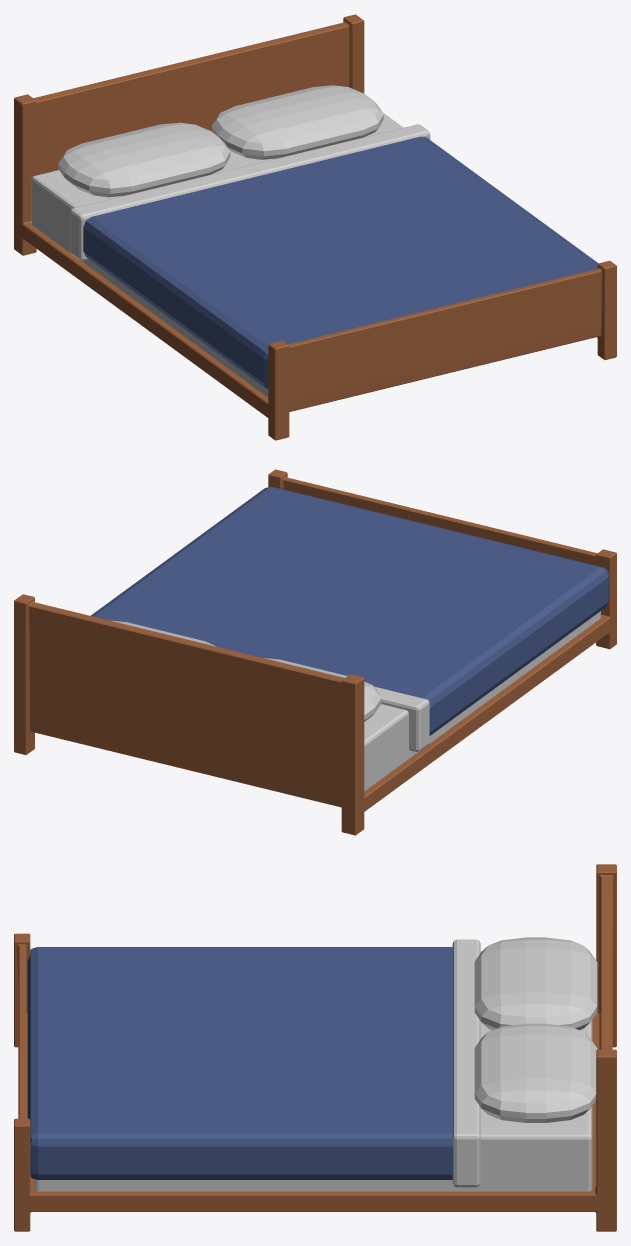
File: Bed Double.glb
The picture shows the model from 3 angles, top to bottom: view 1: azimuth 30°, elevation 25°; view 2: azimuth 150°, elevation 25°; view 3: azimuth 270°, elevation 25°; orthographic projection. The views are drawn at different scales.
Visible parts, largest first — view 1: Bed double; view 2: Bed double; view 3: Bed double.
Part boxes in pixels (x1,y1,x2,y2): Bed double: [14, 14, 616, 440]; Bed double: [14, 469, 616, 835]; Bed double: [14, 864, 616, 1231].
Size of the model in its own units: 859 by 357 by 1110.
